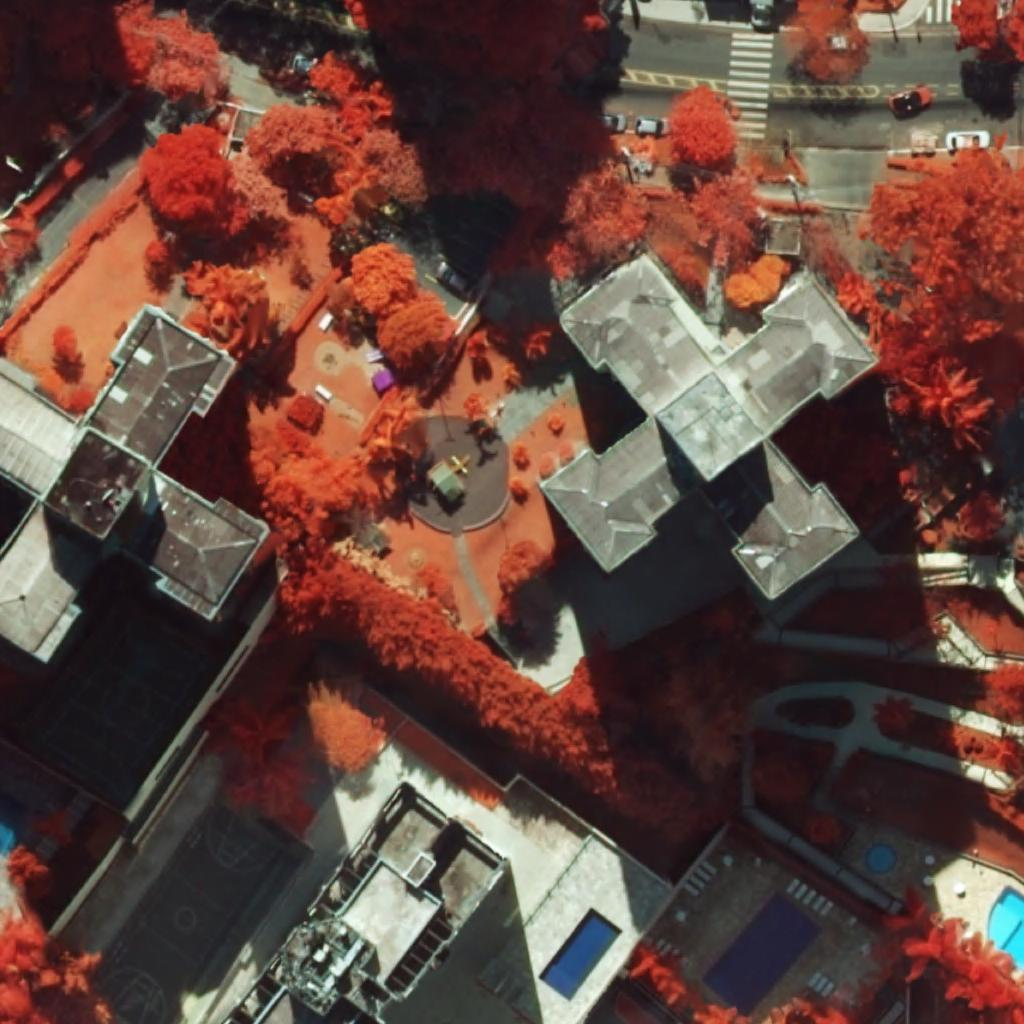pool: (701, 893, 823, 1017), (538, 907, 623, 1002), (987, 885, 1024, 970), (867, 845, 898, 873)
